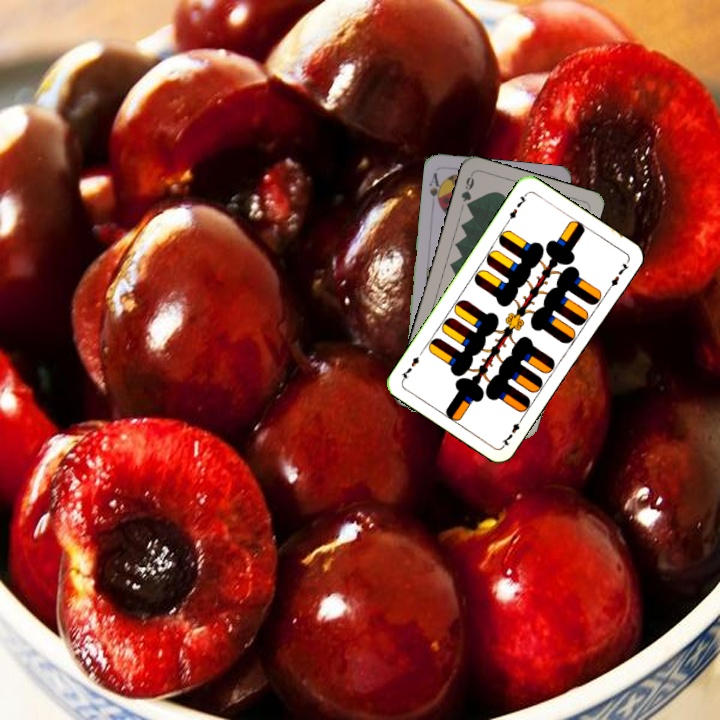E7: (498, 413, 526, 449), (503, 189, 530, 225)
G9: (457, 170, 477, 212)
SA: (425, 169, 445, 209)
